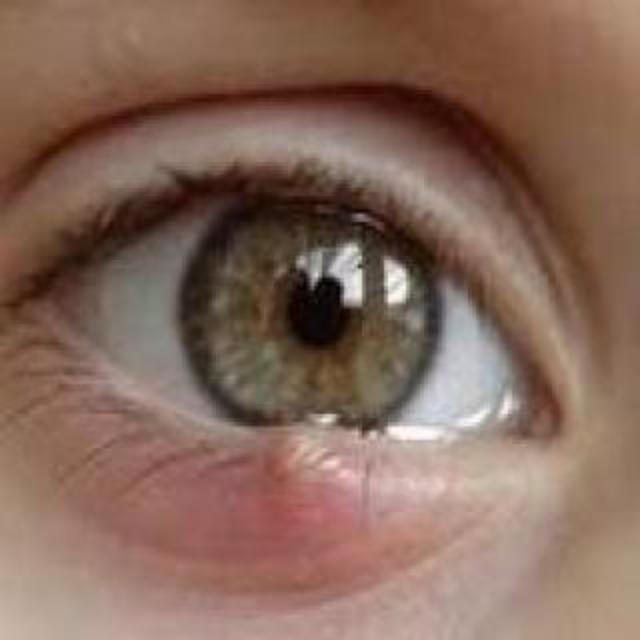Stye: (214, 410, 376, 555)
